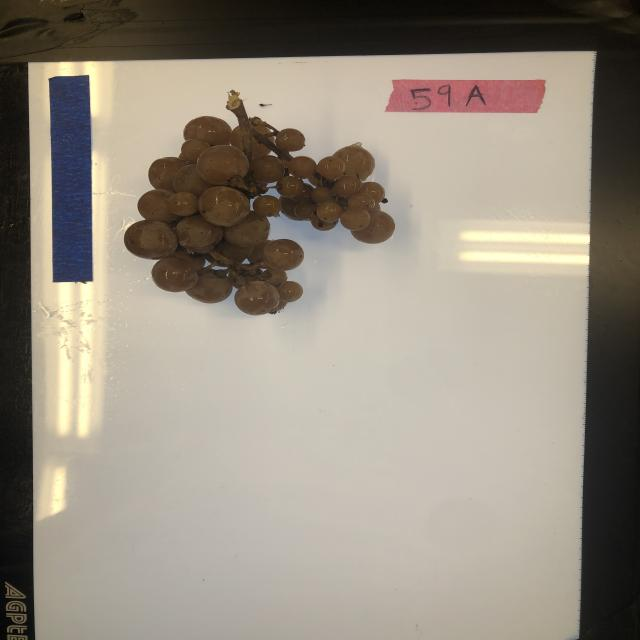grape_cluster: (124, 88, 396, 317)
index: (383, 77, 548, 114)
measure_label: (47, 74, 95, 285)
